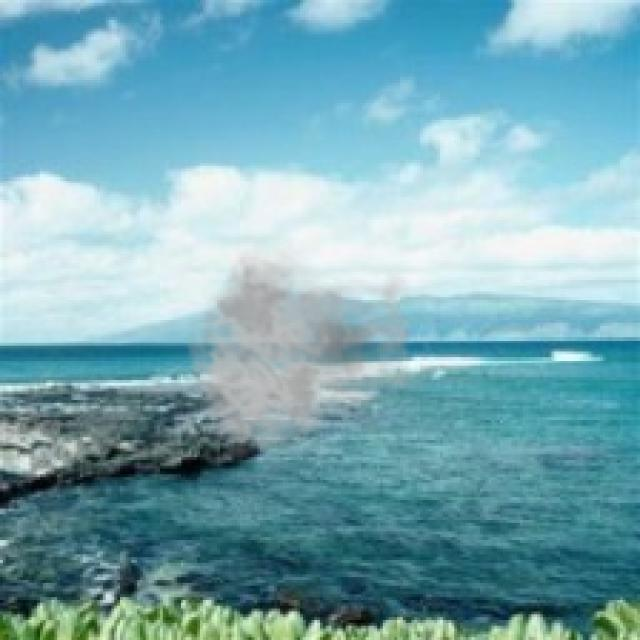smoke: (185, 234, 428, 463)
